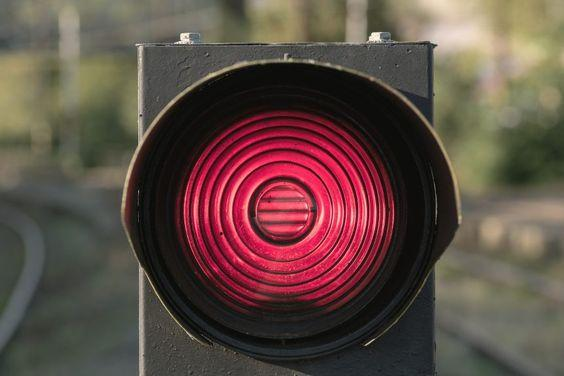red: (93, 36, 467, 376)
